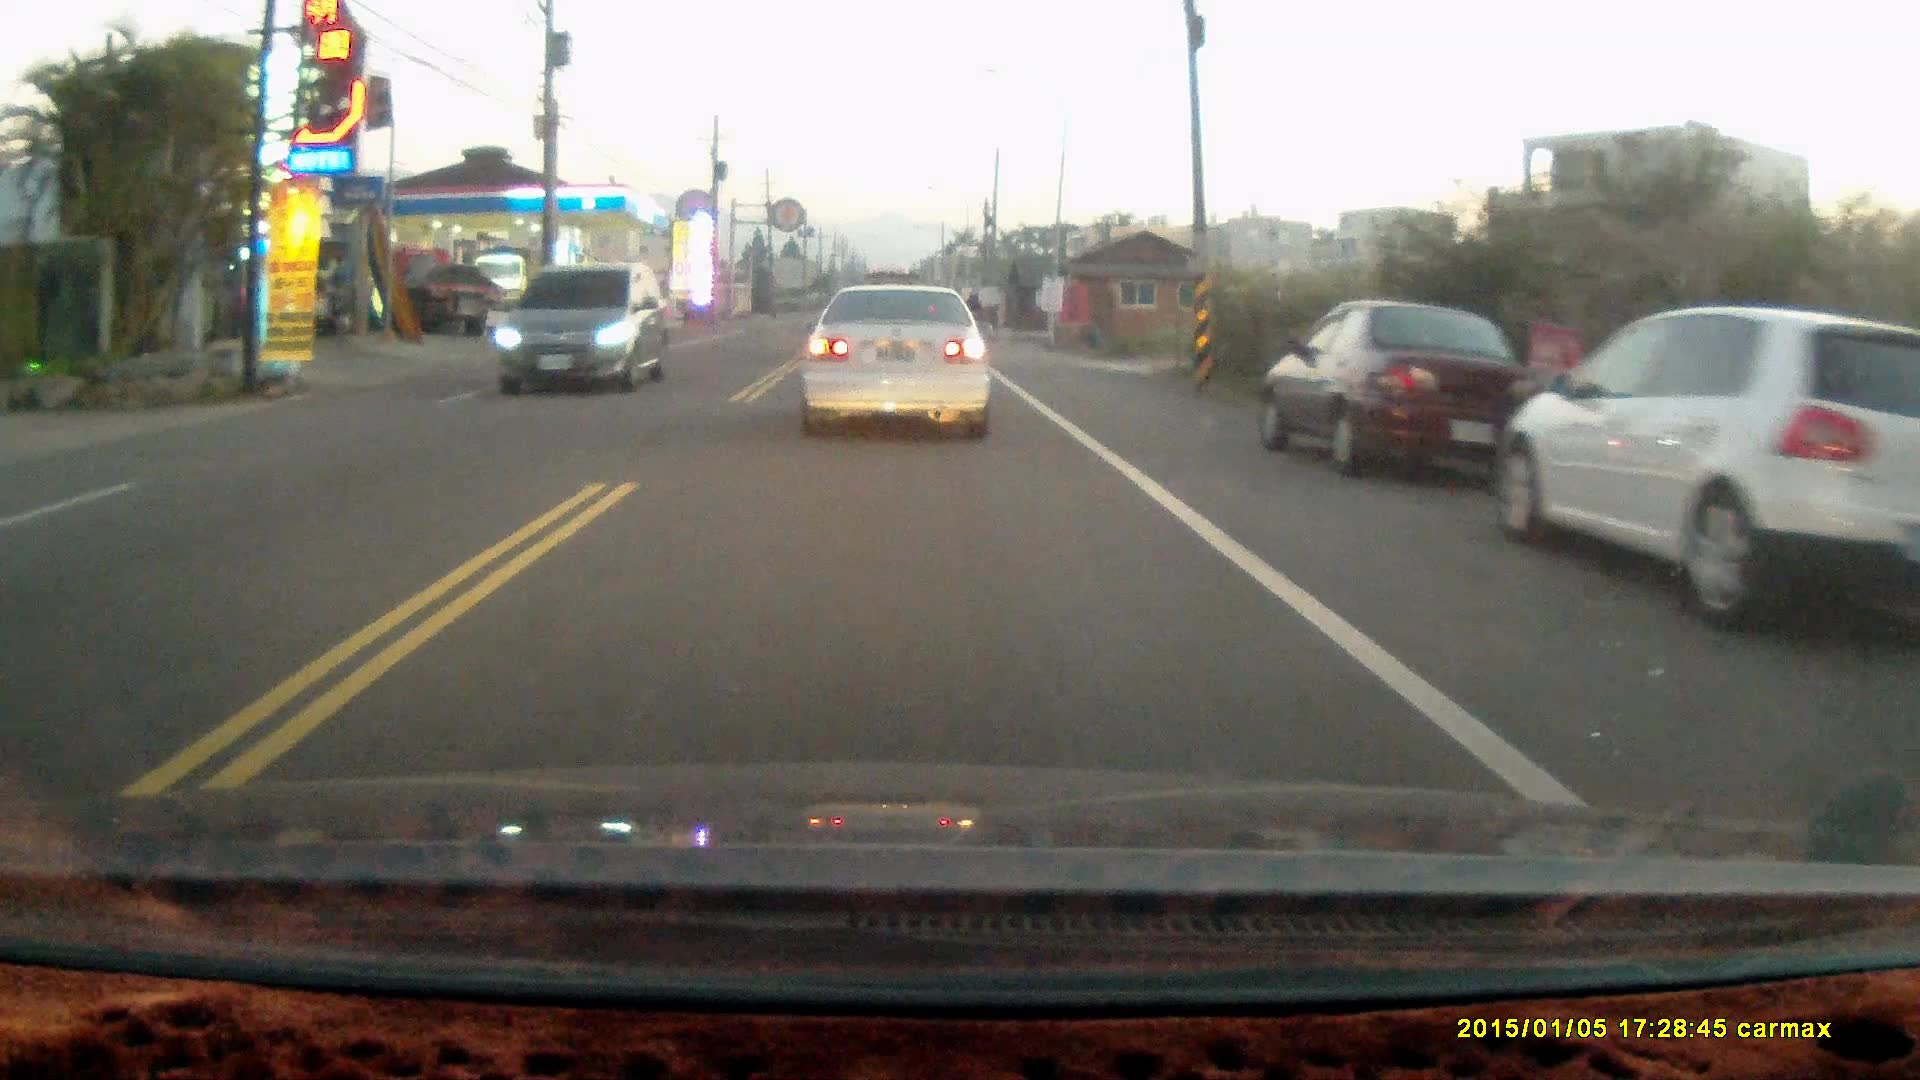vehicle: (1489, 302, 1920, 632), (1261, 302, 1551, 477), (796, 280, 996, 444), (498, 258, 673, 394)
